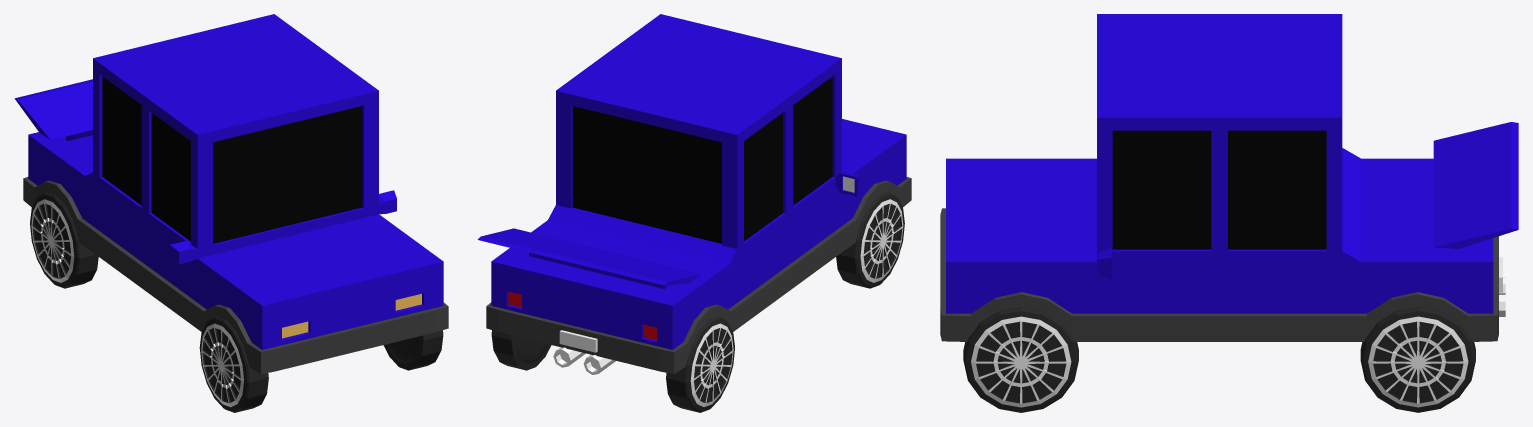
The model's file is car.glb.
3 views of the same model, side by side, from view 1: azimuth 30°, elevation 25°; view 2: azimuth 150°, elevation 25°; view 3: azimuth 270°, elevation 25° (orthographic). The views are drawn at different scales.
Visible parts, largest first — view 1: Carroceria, RodaFrenteEsquerda, RodaAtrasEsquerda, RodaFrenteDireita; view 2: Carroceria, RodaAtrasEsquerda, RodaFrenteEsquerda, RodaAtrasDireita, EscapamentoDireito, EscapamentoEsquerdo; view 3: Carroceria, RodaFrenteDireita, RodaAtrasDireita.
Part boxes in pixels (x1,y1,x2,y2): Carroceria: (14,14,448,373); RodaFrenteEsquerda: (199,316,268,412); RodaAtrasEsquerda: (30,192,98,288); RodaFrenteDireita: (383,330,443,370); Carroceria: (478,14,911,373); RodaAtrasEsquerda: (666,316,734,412); RodaFrenteEsquerda: (836,192,904,288); RodaAtrasDireita: (491,330,551,370); EscapamentoDireito: (553,347,585,367); EscapamentoEsquerdo: (583,354,615,374); Carroceria: (940,14,1518,341); RodaFrenteDireita: (963,307,1078,412); RodaAtrasDireita: (1360,307,1475,412).
Bounding box in the file's own units: 2.47 × 2.63 × 4.72.
